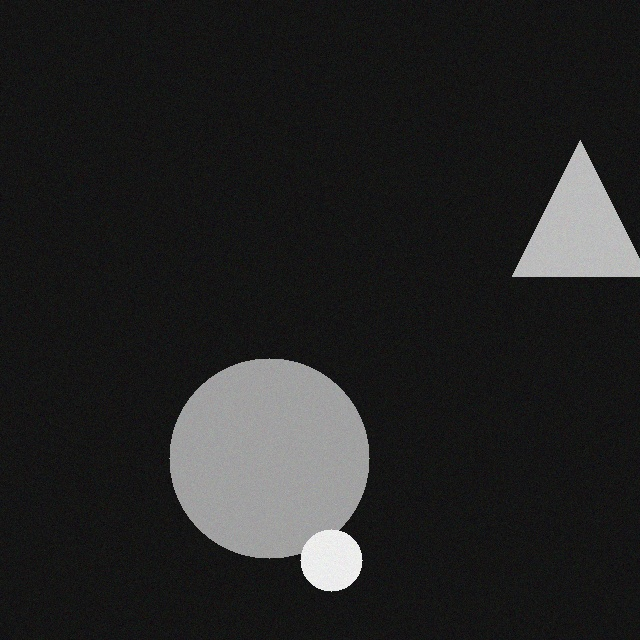circle: (155, 369, 355, 569), (286, 540, 348, 602)
triangle: (498, 151, 634, 287)
